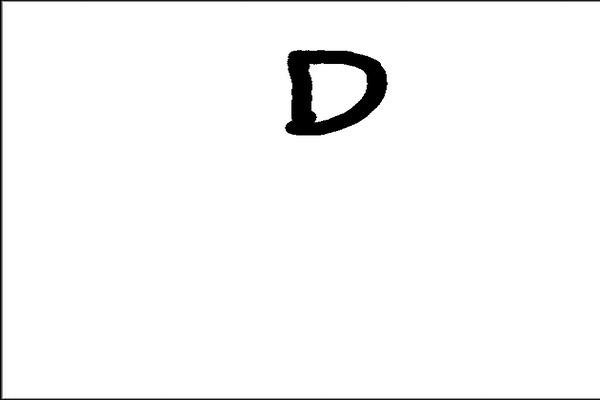D: (280, 45, 392, 142)
